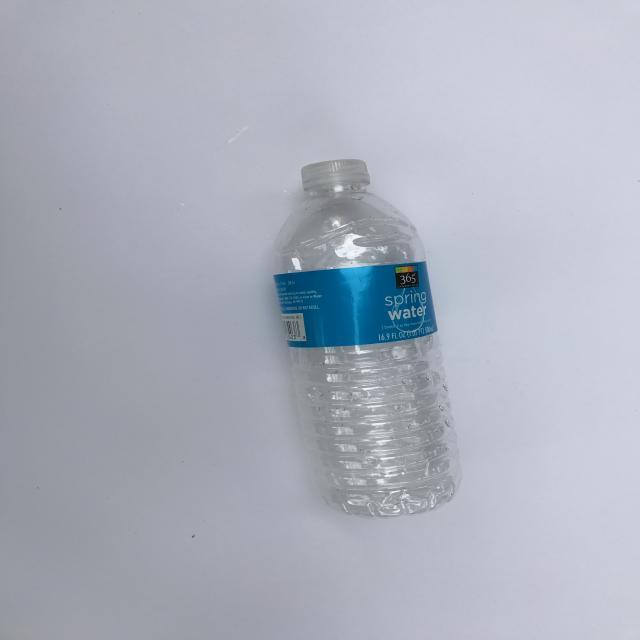plastic: (270, 156, 467, 522)
